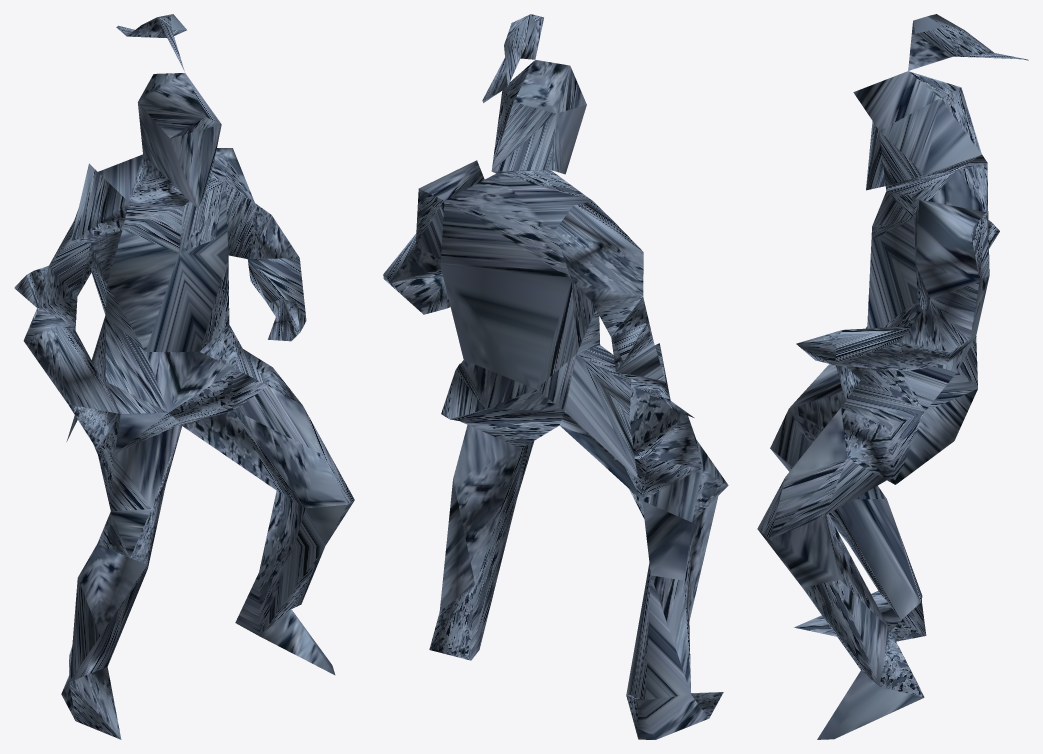
Rendered from ae_knight_rider_iron_lod1.glb.
3 views of the same model, side by side, from view 1: azimuth 30°, elevation 25°; view 2: azimuth 150°, elevation 25°; view 3: azimuth 270°, elevation 25° (orthographic). The views are drawn at different scales.
Parts seen in each view (by area): view 1: output_unwrapped; view 2: output_unwrapped; view 3: output_unwrapped.
Boxes of the visible parts, bbox=[...] form: output_unwrapped: bbox=[14, 14, 354, 739]; output_unwrapped: bbox=[383, 14, 728, 739]; output_unwrapped: bbox=[757, 14, 1028, 739].
Bounding box in the file's own units: 0.7999 × 1.9 × 0.6969.
Materials: 1 (1 with a texture image).
